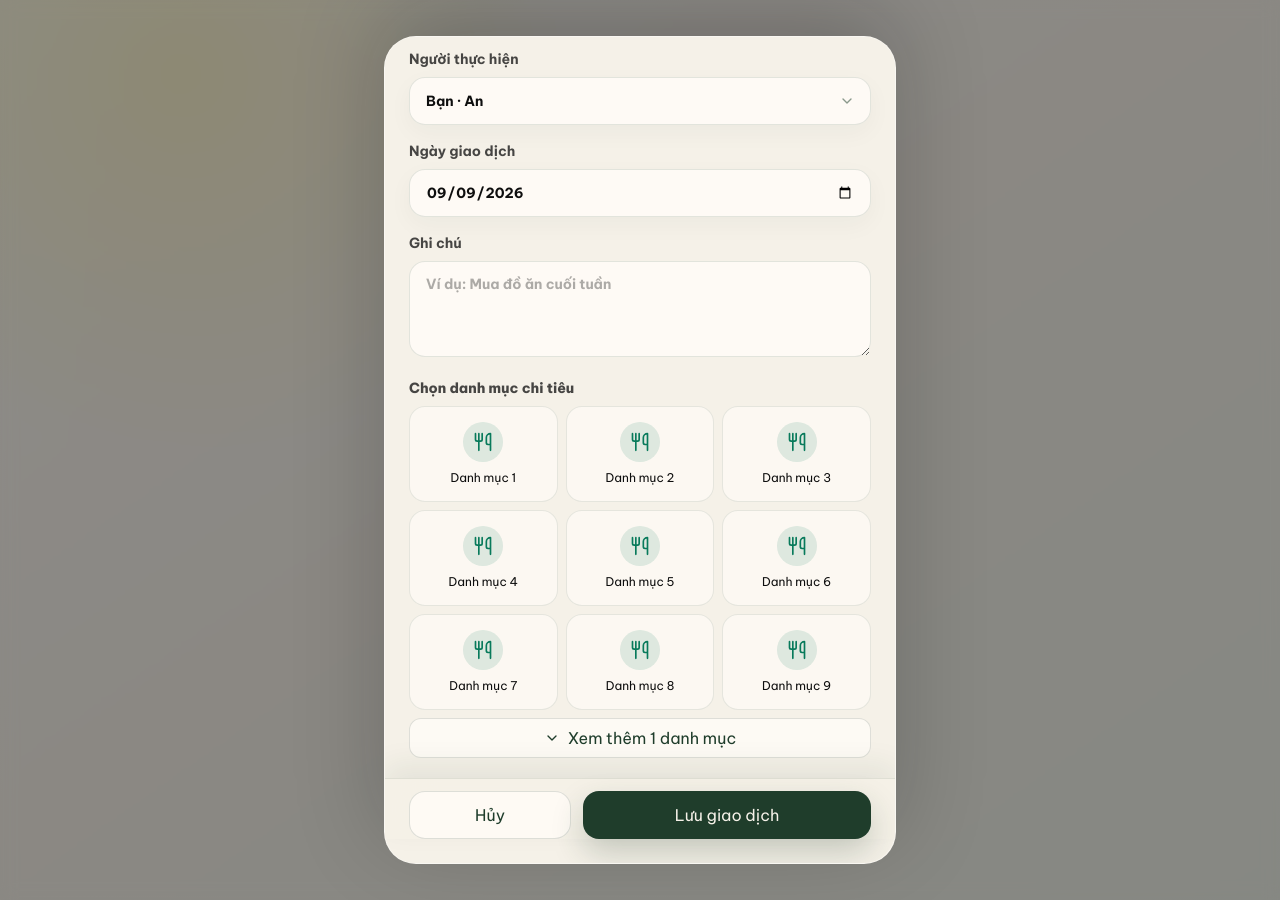
Test: TransactionForm offline draft › hiện 9 danh mục trước và cho phép xem thêm giống app cũ
(page scrolled)
Click the button "Xem thêm 1 danh mục" at (640, 738), box 409,718 -> 871,758
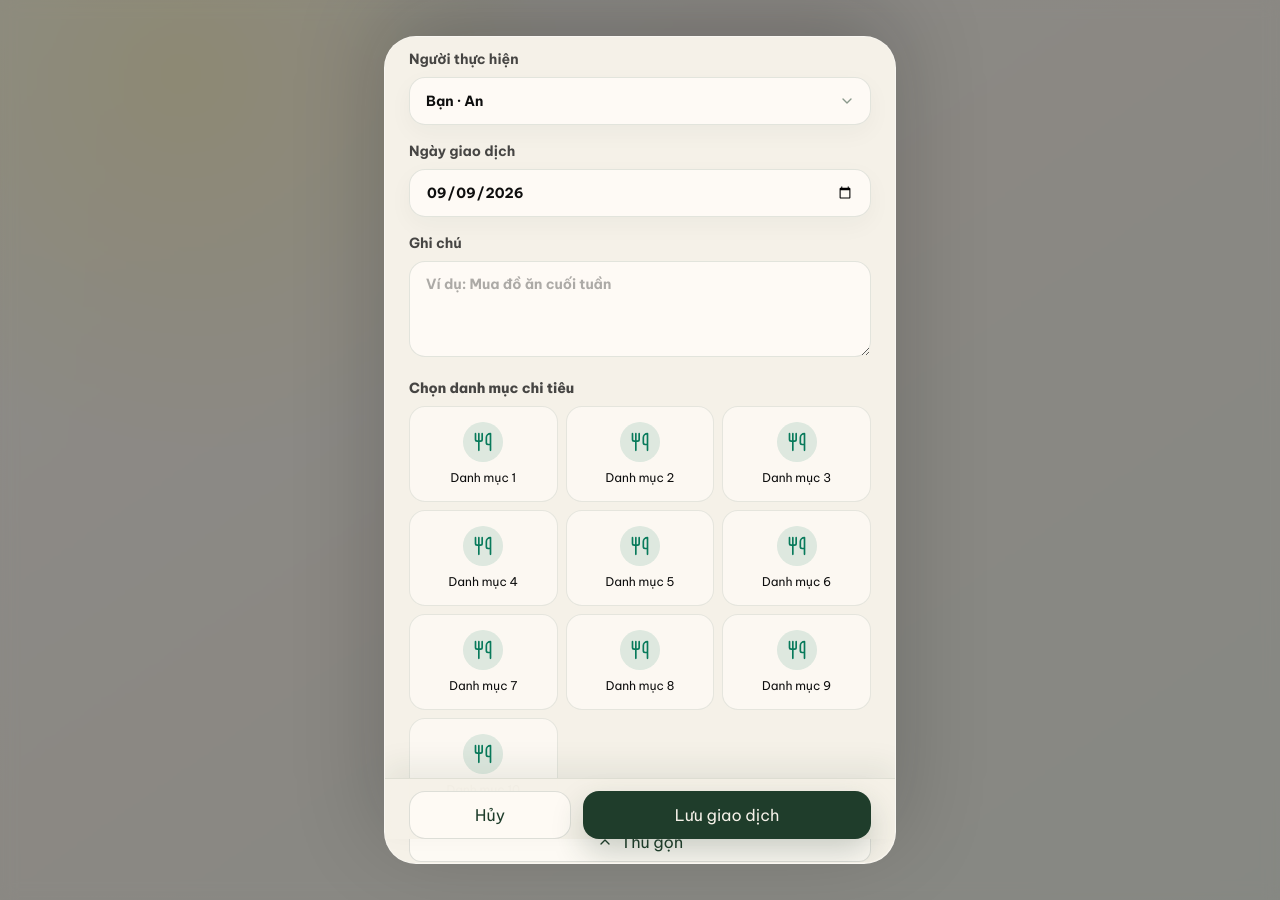
Result: the button with aria-label "Chọn danh mục Danh mục 10" is shown at 409,718 -> 558,814
Result: the button "Thu gọn" is shown at 409,822 -> 871,862
